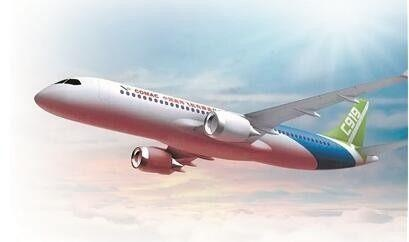airplane: (30, 64, 409, 179)
